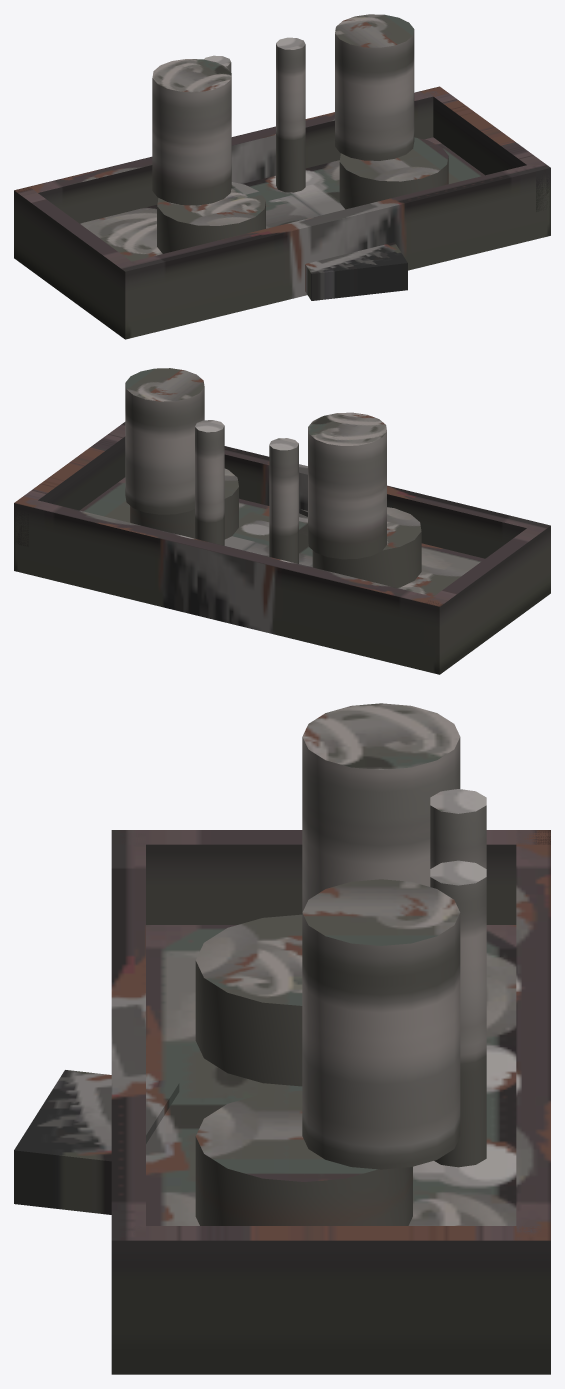
File: Building_AncientStandardRecharger.obj
The picture shows the model from 3 angles, top to bottom: view 1: azimuth 30°, elevation 25°; view 2: azimuth 150°, elevation 25°; view 3: azimuth 270°, elevation 25°; orthographic projection. The views are drawn at different scales.
Visible parts, largest first — view 1: Body; view 2: Body; view 3: Body.
Boxes of the visible parts, left/top/right/bottom form: Body: left=14, top=14, right=550, bottom=339; Body: left=14, top=368, right=550, bottom=674; Body: left=14, top=703, right=550, bottom=1374.
Bounding box in the file's own units: 1.97 × 0.8 × 1.09.
Materials: 1 (1 with a texture image).
